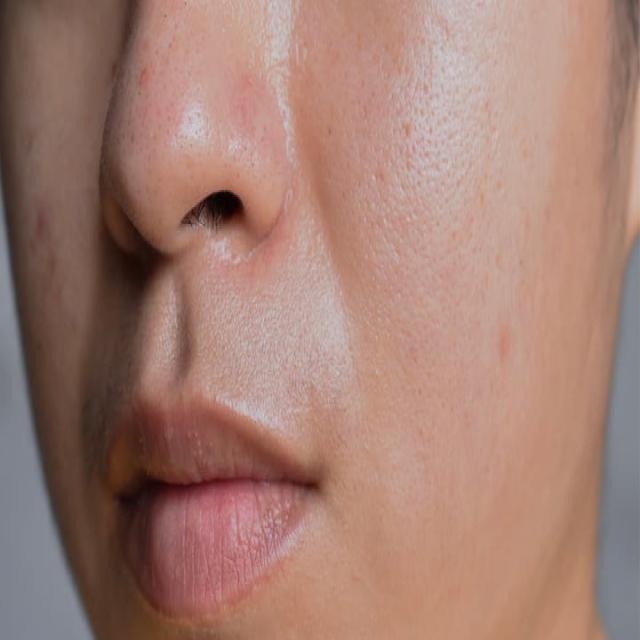Englarged-Pores: (352, 80, 489, 257)
Oily-Skin: (107, 34, 640, 640)
